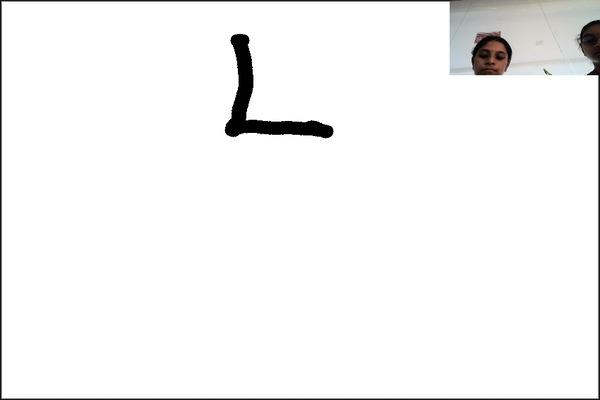L: (215, 26, 343, 151)
